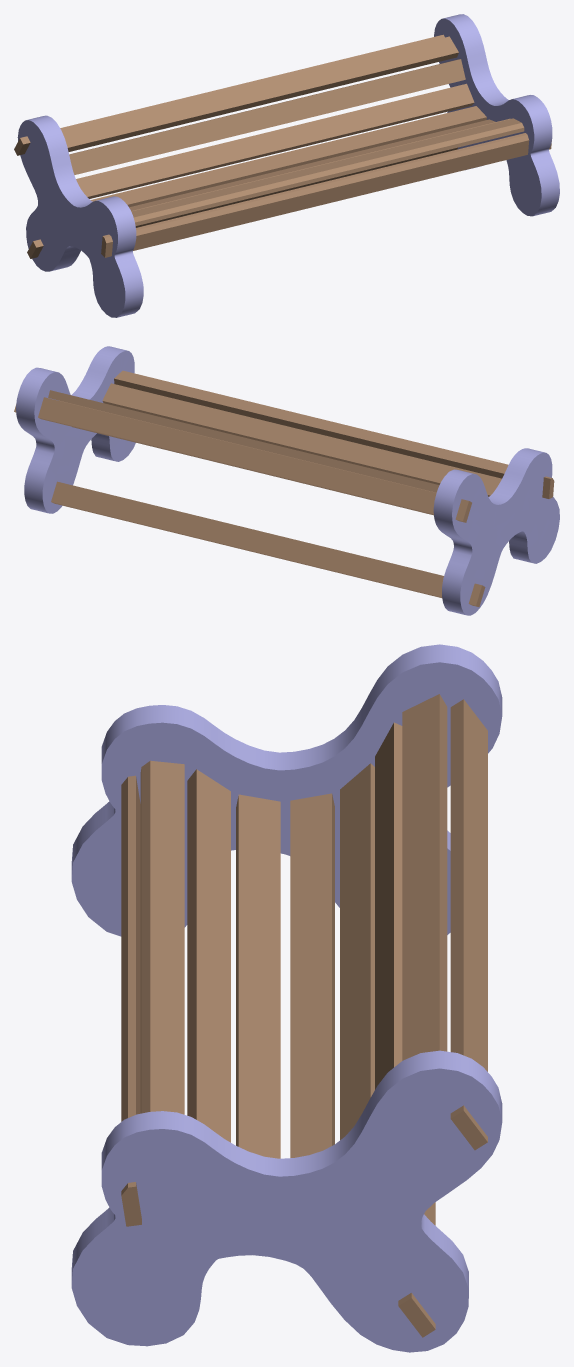
File: bench_01.fbx
The picture shows the model from 3 angles, top to bottom: view 1: azimuth 30°, elevation 25°; view 2: azimuth 150°, elevation 25°; view 3: azimuth 270°, elevation 25°; orthographic projection. The views are drawn at different scales.
Visible parts, largest first — view 1: coral_end_001, wood_piece_004, wood_piece_009, wood_piece_002, wood_piece_003, coral_end_002, wood_piece_008, wood_piece_005, wood_piece_006, wood_piece_001, wood_piece_0010, wood_piece_007; view 2: coral_end_001, wood_piece_001, wood_piece_0010, coral_end_002, wood_piece_007, wood_piece_008, wood_piece_002, wood_piece_004; view 3: coral_end_002, coral_end_001, wood_piece_002, wood_piece_005, wood_piece_006, wood_piece_008, wood_piece_007, wood_piece_001, wood_piece_004, wood_piece_003, wood_piece_009, wood_piece_0010.
Boxes of the visible parts, <box> form: coral_end_001: <box>17,115,143,317</box>; wood_piece_004: <box>76,83,474,198</box>; wood_piece_009: <box>101,133,551,257</box>; wood_piece_002: <box>62,36,458,151</box>; wood_piece_003: <box>69,59,465,174</box>; coral_end_002: <box>434,14,559,216</box>; wood_piece_008: <box>131,118,524,225</box>; wood_piece_005: <box>91,106,486,207</box>; wood_piece_006: <box>129,119,495,210</box>; wood_piece_001: <box>14,34,444,155</box>; wood_piece_0010: <box>27,147,457,258</box>; wood_piece_007: <box>131,118,510,211</box>; coral_end_001: <box>433,448,559,615</box>; wood_piece_001: <box>14,397,471,522</box>; wood_piece_0010: <box>51,481,485,606</box>; coral_end_002: <box>16,346,135,513</box>; wood_piece_007: <box>102,383,501,496</box>; wood_piece_008: <box>114,370,508,478</box>; wood_piece_002: <box>48,390,439,492</box>; wood_piece_004: <box>72,427,433,515</box>; coral_end_002: <box>71,1050,502,1352</box>; coral_end_001: <box>71,644,502,936</box>; wood_piece_002: <box>402,694,447,1060</box>; wood_piece_005: <box>290,793,334,1157</box>; wood_piece_006: <box>236,794,280,1158</box>; wood_piece_008: <box>140,760,184,1114</box>; wood_piece_007: <box>187,769,230,1142</box>; wood_piece_001: <box>450,699,487,1150</box>; wood_piece_004: <box>340,763,374,1139</box>; wood_piece_003: <box>375,722,402,1089</box>; wood_piece_009: <box>121,775,141,1226</box>; wood_piece_0010: <box>398,1202,435,1337</box>.
Size of the model in its own units: 453 by 137 by 189.
